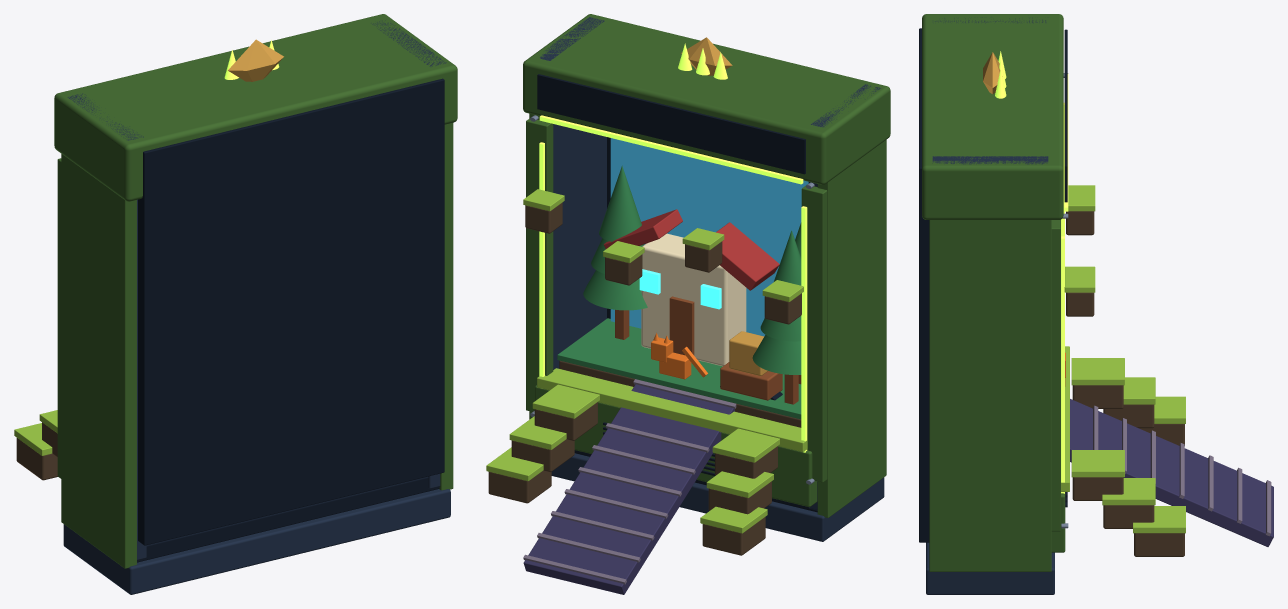
Rendered from syezzhaem.glb.
3 renders of one model, left to right at view 1: azimuth 30°, elevation 25°; view 2: azimuth 150°, elevation 25°; view 3: azimuth 270°, elevation 25°, orthographic. The views are drawn at different scales.
Visible parts, largest first — view 1: back, colored_side (×2), hood, base, plinth, side (×2), front_rail, crown, outer_soil, outer_grass; view 2: hood, colored_side, entry_bridge, world_backdrop, front_rail (×2), side, marquee, outer_soil (×6), house, outer_grass (×6), tree (×5), lawn (+21 smaller); view 3: colored_side, hood, entry_bridge, outer_grass (×6), outer_soil (×6), back, base, front_rail, light_rail, side, screen_sill, floating_block_3 (+6 smaller).
Part boxes in pixels (<box>): back: <box>138,78,444,545</box>; colored_side (×2): <box>61,123,453,568</box>; hood: <box>54,14,457,201</box>; base: <box>63,489,450,594</box>; plinth: <box>137,476,439,562</box>; side (×2): <box>67,20,446,560</box>; front_rail: <box>57,158,61,478</box>; crown: <box>228,39,283,81</box>; outer_soil: <box>16,438,57,480</box>; outer_grass: <box>14,423,52,455</box>; hood: <box>523,14,890,184</box>; colored_side: <box>817,139,886,517</box>; entry_bridge: <box>523,384,734,594</box>; world_backdrop: <box>610,138,808,336</box>; front_rail (×2): <box>526,118,827,482</box>; side: <box>540,17,606,369</box>; marquee: <box>537,74,805,174</box>; outer_soil (×6): <box>488,402,777,555</box>; house: <box>641,233,746,366</box>; outer_grass (×6): <box>486,384,779,533</box>; tree (×5): <box>583,165,801,374</box>; lawn: <box>557,318,801,419</box>; colored_side: <box>929,220,1051,571</box>; hood: <box>922,14,1063,219</box>; entry_bridge: <box>1070,399,1273,546</box>; outer_grass (×6): <box>1071,358,1185,533</box>; outer_soil (×6): <box>1072,385,1184,556</box>; back: <box>919,28,929,542</box>; base: <box>926,542,1054,594</box>; front_rail: <box>1051,219,1060,531</box>; light_rail: <box>1061,236,1064,493</box>; side: <box>932,156,1048,164</box>; screen_sill: <box>1061,346,1069,491</box>; floating_block_3: <box>1066,292,1094,316</box>.
Bounding box in the file's own units: 3.23 × 4.58 × 3.13.
